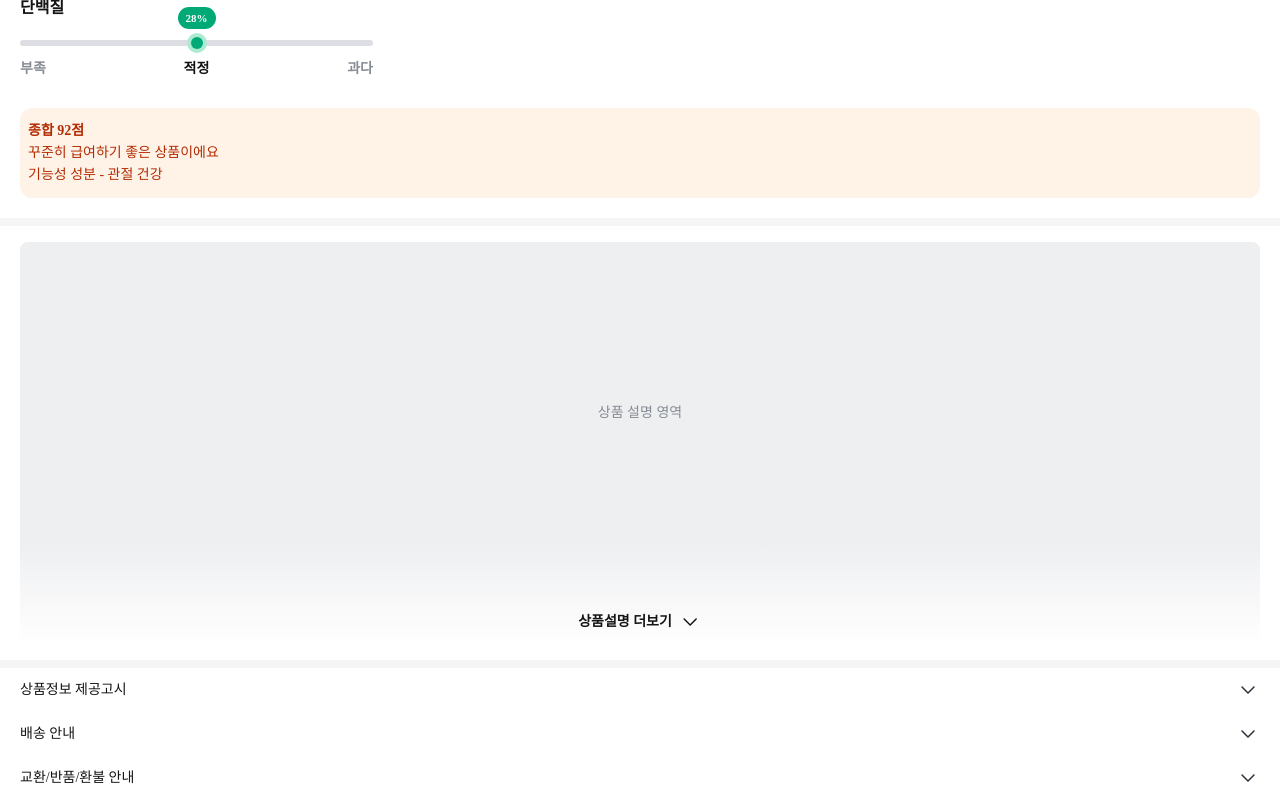
it: 상품정보 하단 안내 › 제공고시에 서버 값도 자리표시 상담 번호도 넣지 않는다
(page scrolled)
Click the button "상품정보 제공고시".
click(73, 690)  # box [20,668,1260,712]
(page scrolled)
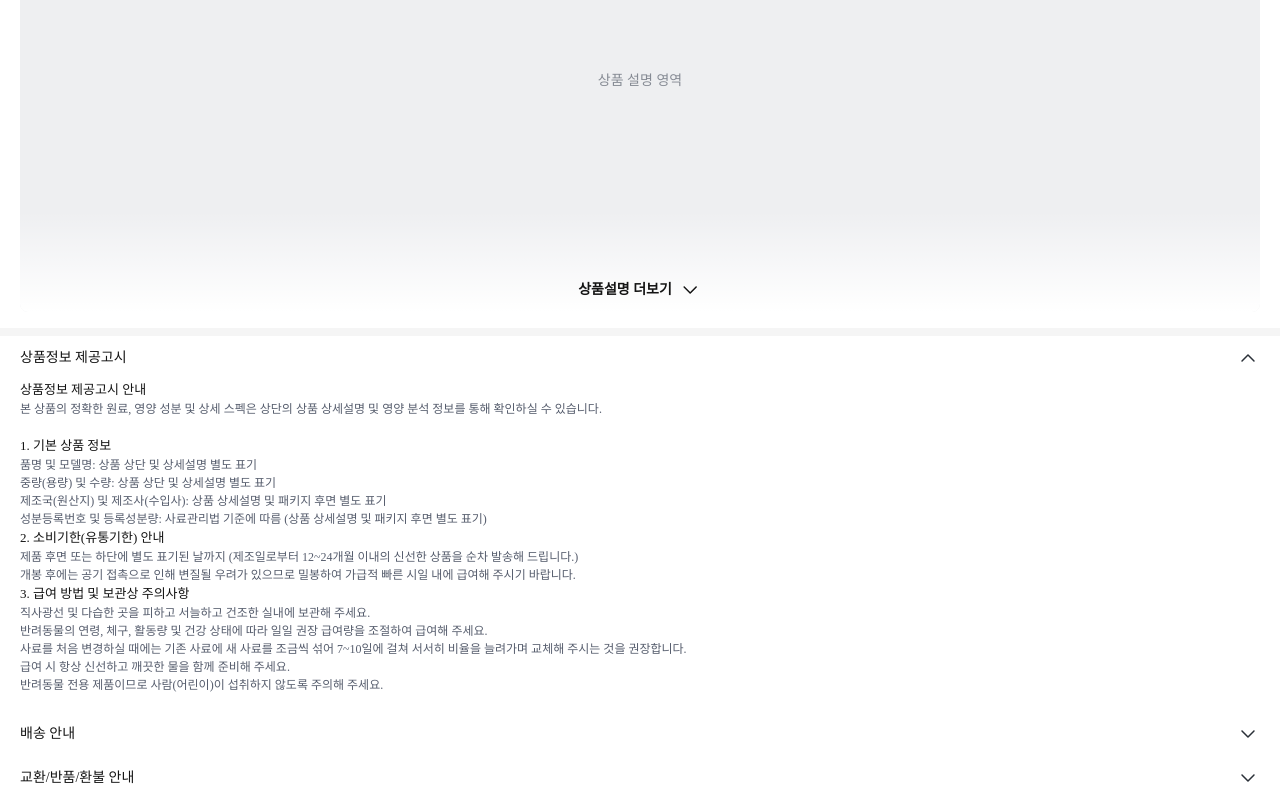
Result: the text "품명 및 모델명: 상품 상단 및 상세설명 별도 표기" is shown at [20,458,257,472]
